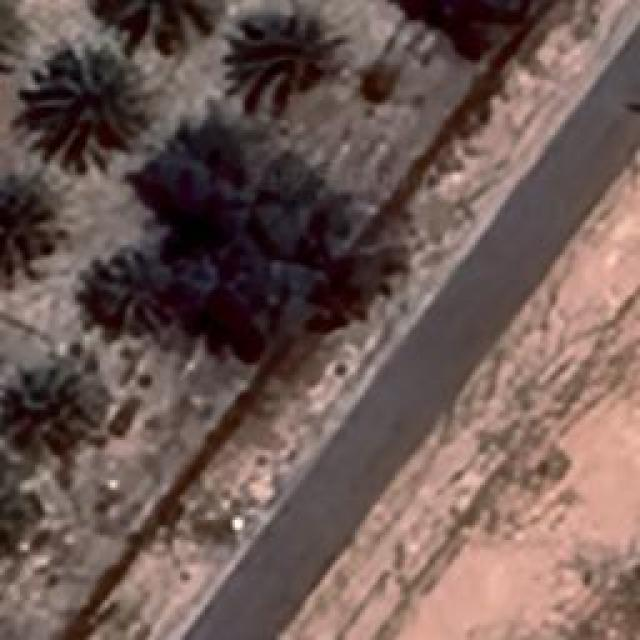PalmTree: (22, 42, 160, 170), (222, 2, 352, 100), (7, 365, 95, 450), (89, 0, 222, 54), (98, 242, 172, 330), (0, 177, 55, 275), (0, 0, 25, 72)
